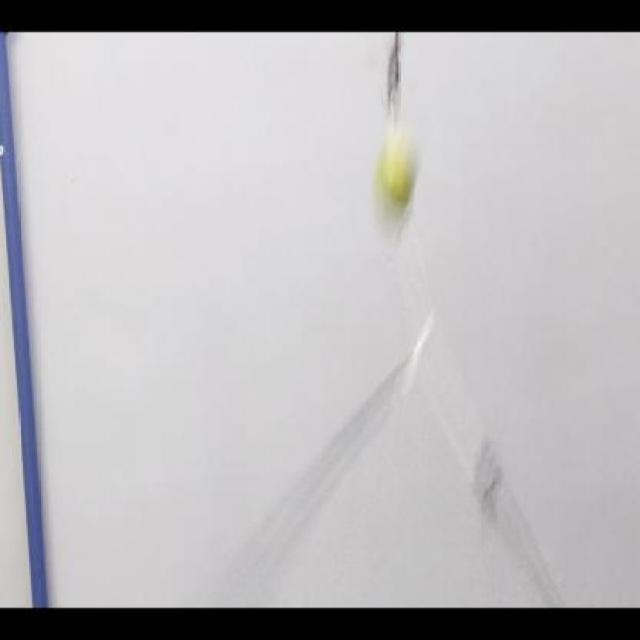baseball: (372, 131, 422, 223)
